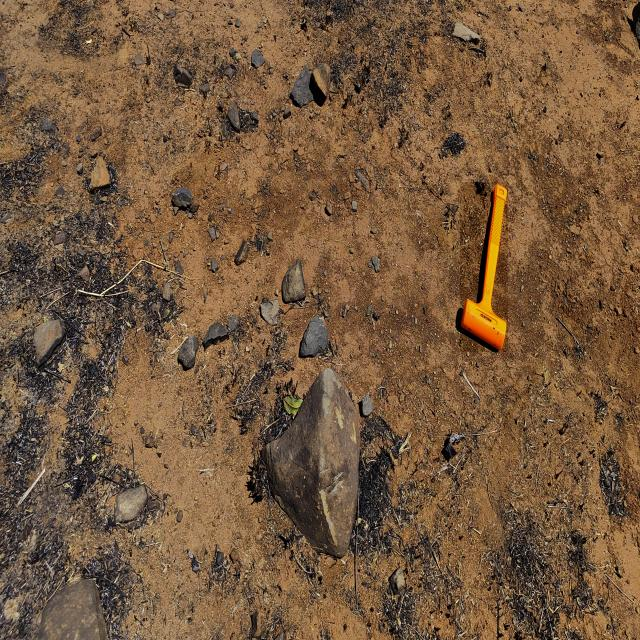Orange_hammer: (460, 182, 508, 352)
